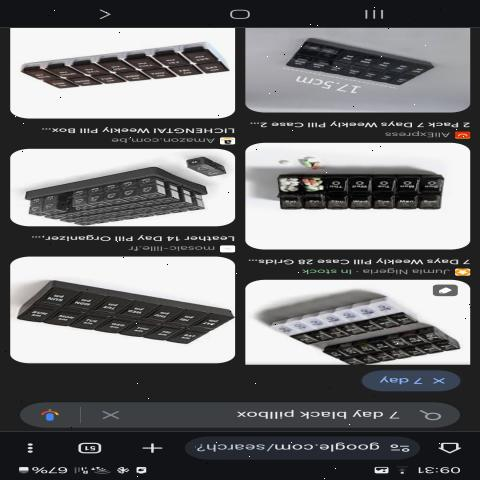PillBox: (15, 272, 234, 356), (20, 32, 227, 95), (254, 157, 447, 223), (267, 34, 456, 98), (306, 329, 466, 364)
